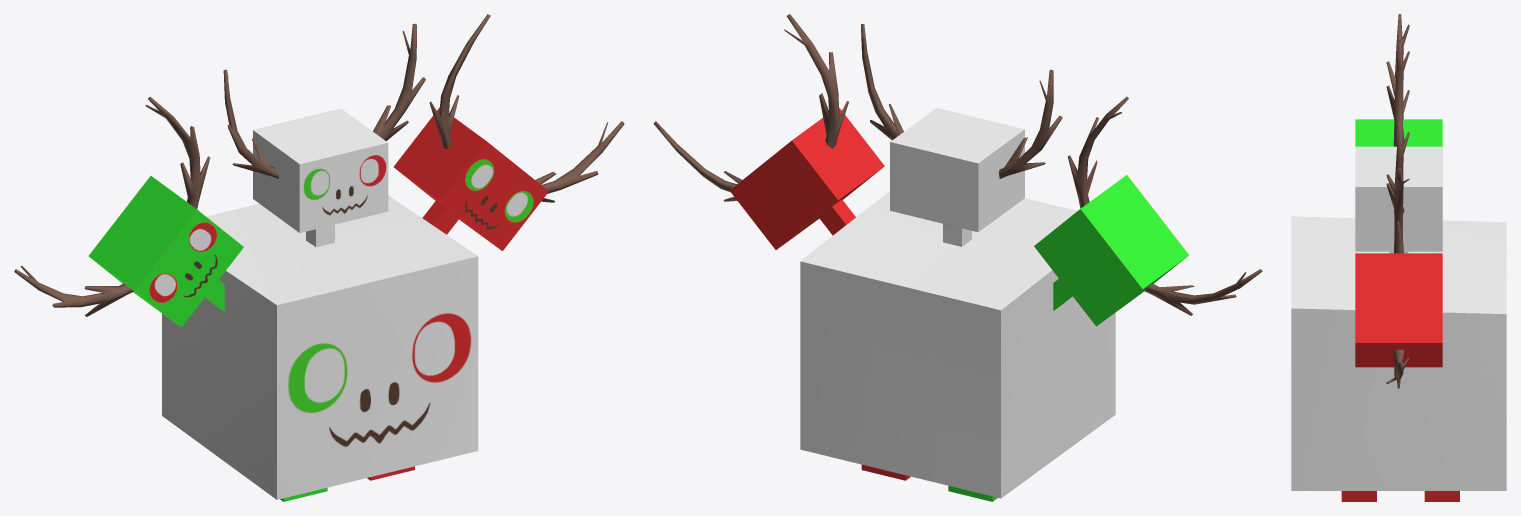
The model's file is Immortuos.fbx.
3 renders of one model, left to right at view 1: azimuth 30°, elevation 25°; view 2: azimuth 150°, elevation 25°; view 3: azimuth 270°, elevation 25°, orthographic. The views are drawn at different scales.
Visible parts, largest first — view 1: Immortuos; view 2: Immortuos; view 3: Immortuos.
Boxes of the visible parts, x1,y1,x2,y2 form: Immortuos: (14,14,624,501); Immortuos: (653,14,1262,501); Immortuos: (1291,14,1506,501).
Size of the model in its own units: 1142 by 744 by 373.
1 material, 1 textured.
